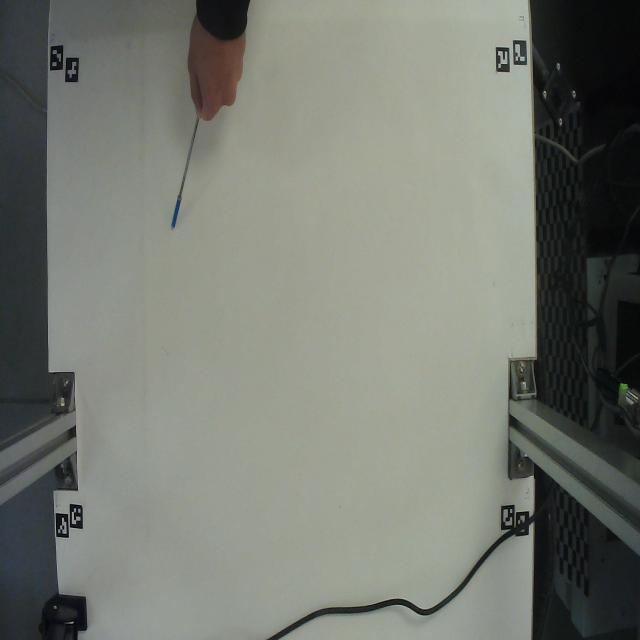Pres: (159, 96, 225, 240)
